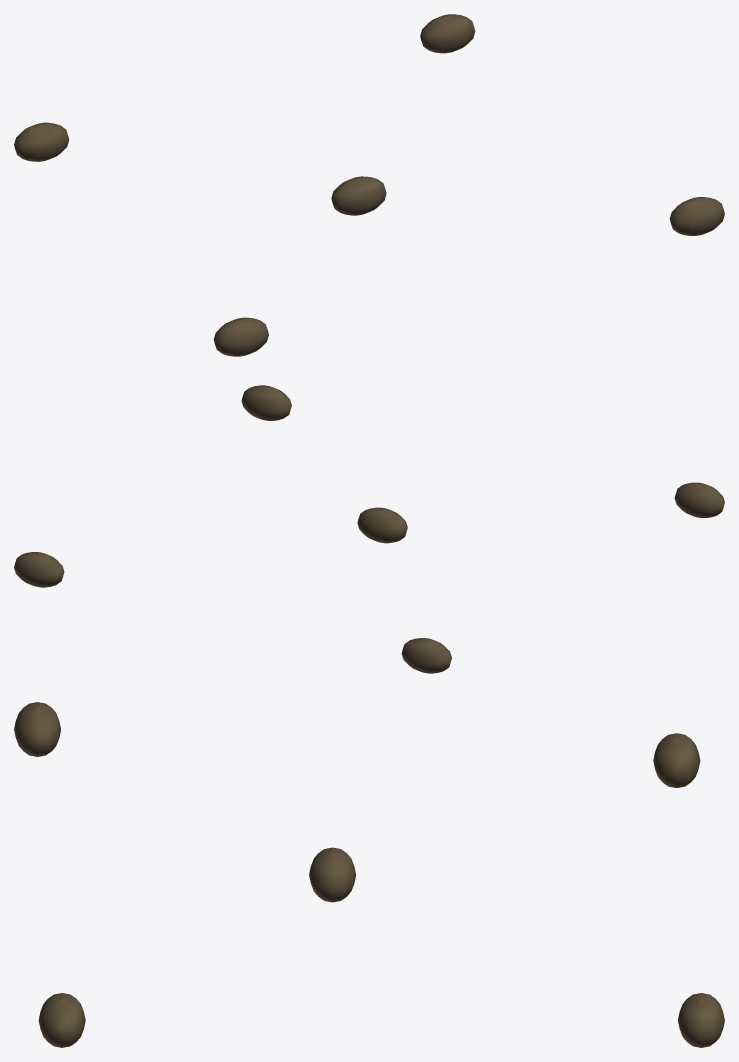
The model's file is grape_seed.glb.
3 renders of one model, top to bottom at view 1: azimuth 30°, elevation 25°; view 2: azimuth 150°, elevation 25°; view 3: azimuth 270°, elevation 25°, orthographic. The views are drawn at different scales.
Visible parts, largest first — view 1: seeds; view 2: seeds; view 3: seeds.
Boxes of the visible parts, x1=… form: seeds: x1=14, y1=14, x2=724, y2=356; seeds: x1=14, y1=385, x2=724, y2=673; seeds: x1=14, y1=702, x2=724, y2=1047.
Size of the model in its own units: 0.312 by 0.02 by 0.2892.
